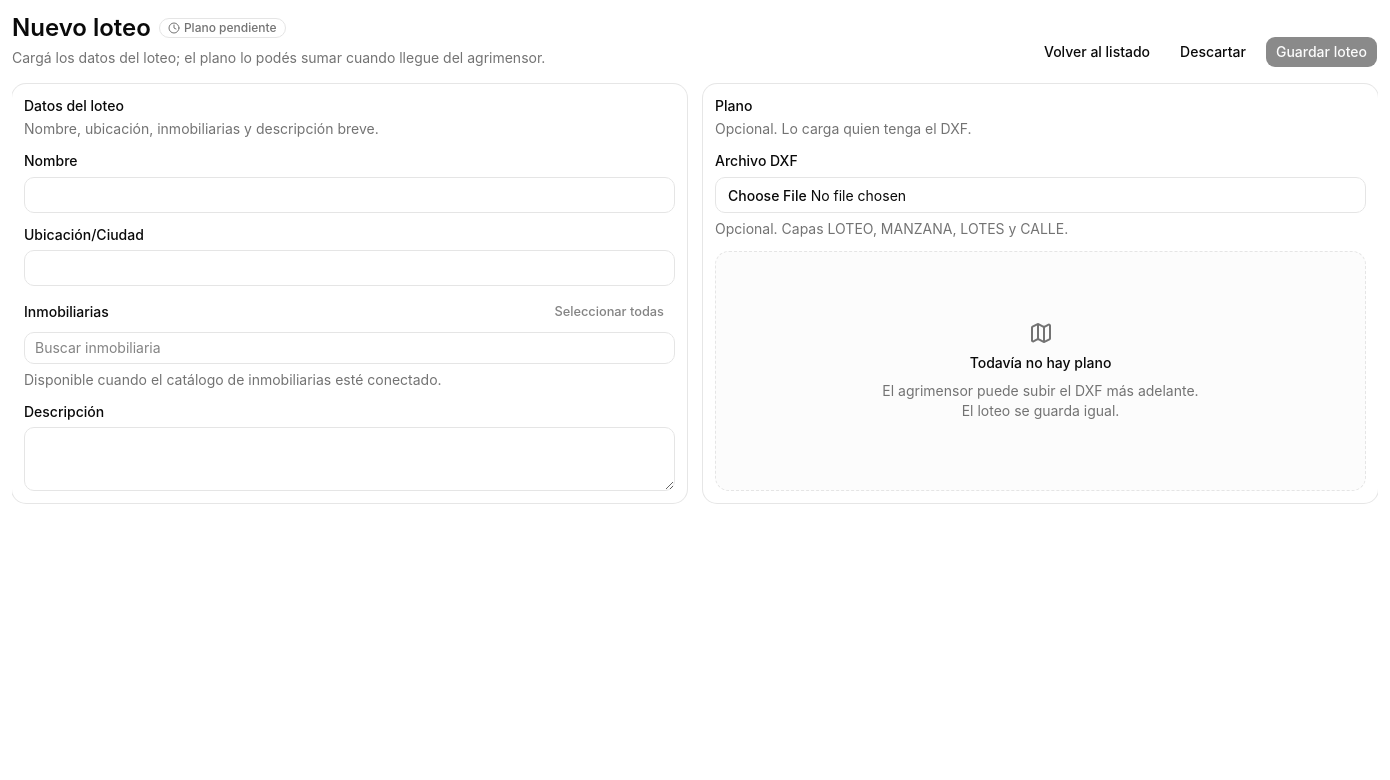
it: LotsPage › shows the backend message when creating the loteo fails
In the field labelled "Nombre": (350, 194) [24, 176, 675, 212], type "Las Acacias"
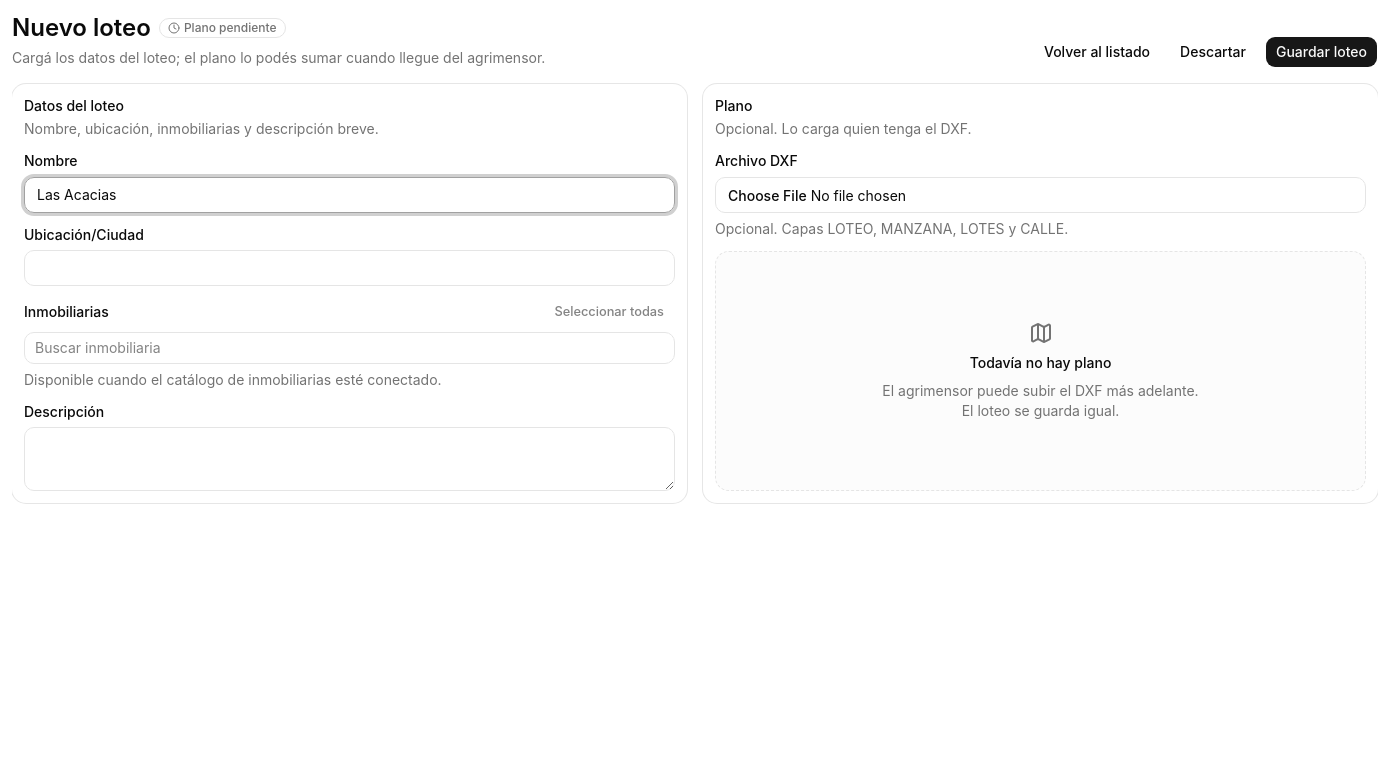
Click the button "Guardar loteo": (1322, 52) [1265, 36, 1378, 68]
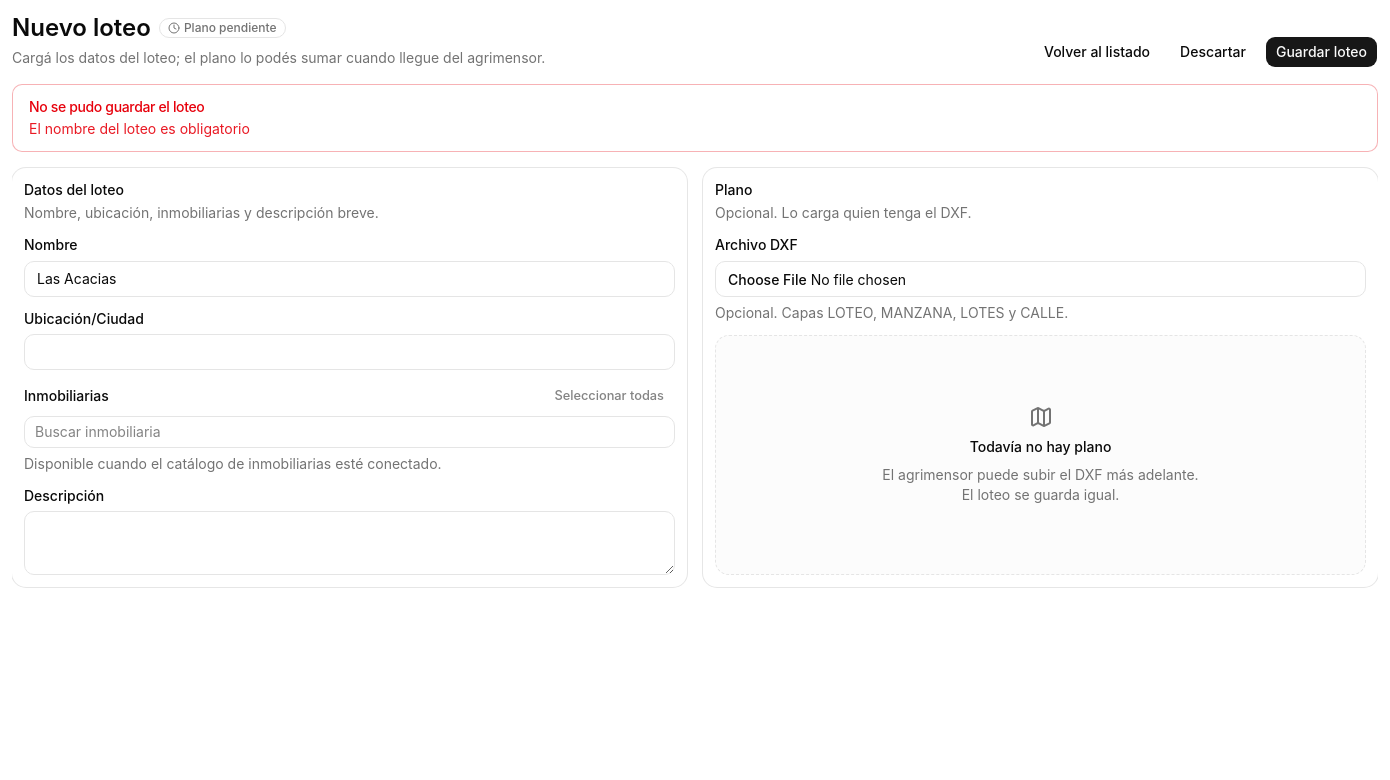
Now the text "No se pudo guardar el loteo" is shown, box [29, 98, 204, 115]
Now the text "El nombre del loteo es obligatorio" is shown, box [29, 120, 250, 137]
